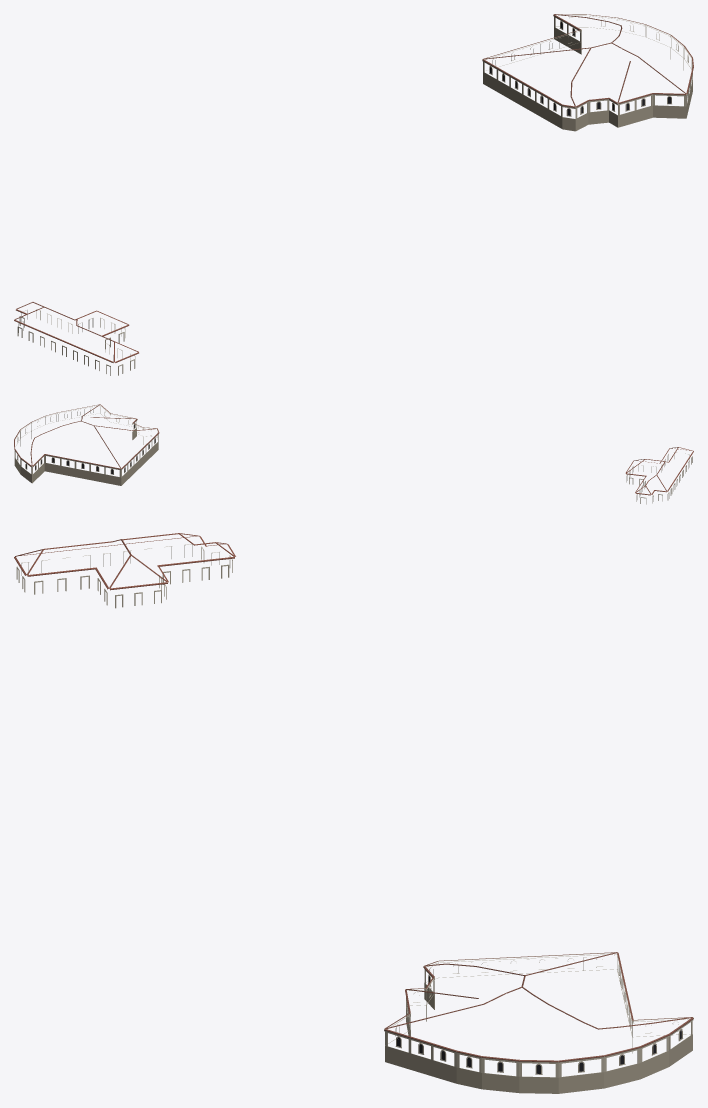
3 views of the same model, one above another, from view 1: azimuth 30°, elevation 25°; view 2: azimuth 150°, elevation 25°; view 3: azimuth 270°, elevation 25° (orthographic). The views are drawn at different scales.
Visible parts, largest first — view 1: detail; view 2: detail; view 3: detail.
Boxes of the visible parts, bbox=[...] form: detail: bbox=[14, 14, 693, 375]; detail: bbox=[14, 404, 693, 504]; detail: bbox=[14, 533, 693, 1093].
Size of the model in its own units: 233 by 12.57 by 130.
